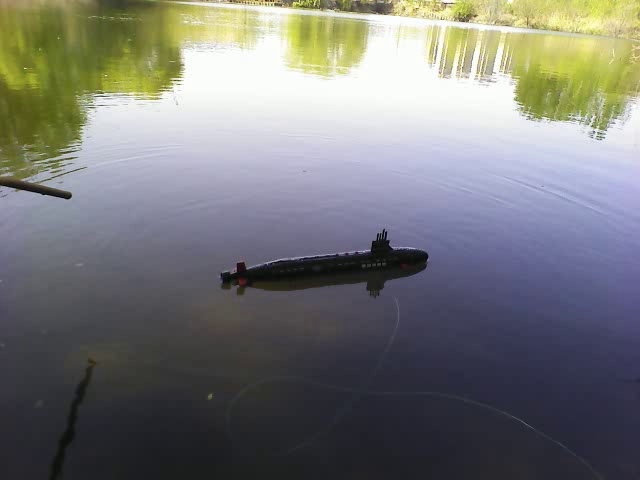submarine: (215, 228, 432, 289)
